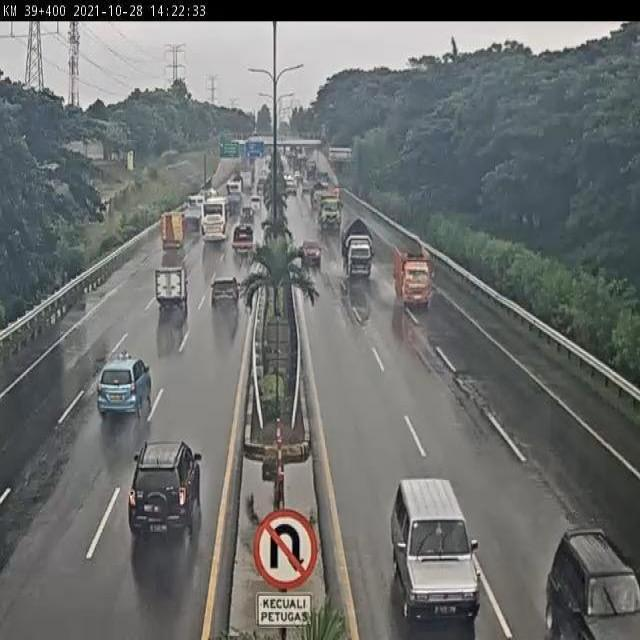car: (386, 475, 481, 624), (539, 524, 640, 640), (127, 438, 203, 542), (94, 346, 159, 422), (208, 276, 239, 320), (298, 234, 322, 270), (228, 228, 250, 257), (243, 205, 258, 227), (251, 186, 264, 206)
truck: (388, 243, 438, 311), (200, 192, 242, 251), (339, 213, 375, 280), (148, 269, 188, 319), (157, 212, 186, 255), (315, 190, 342, 230), (213, 184, 236, 223), (182, 193, 204, 232), (230, 171, 251, 204)
